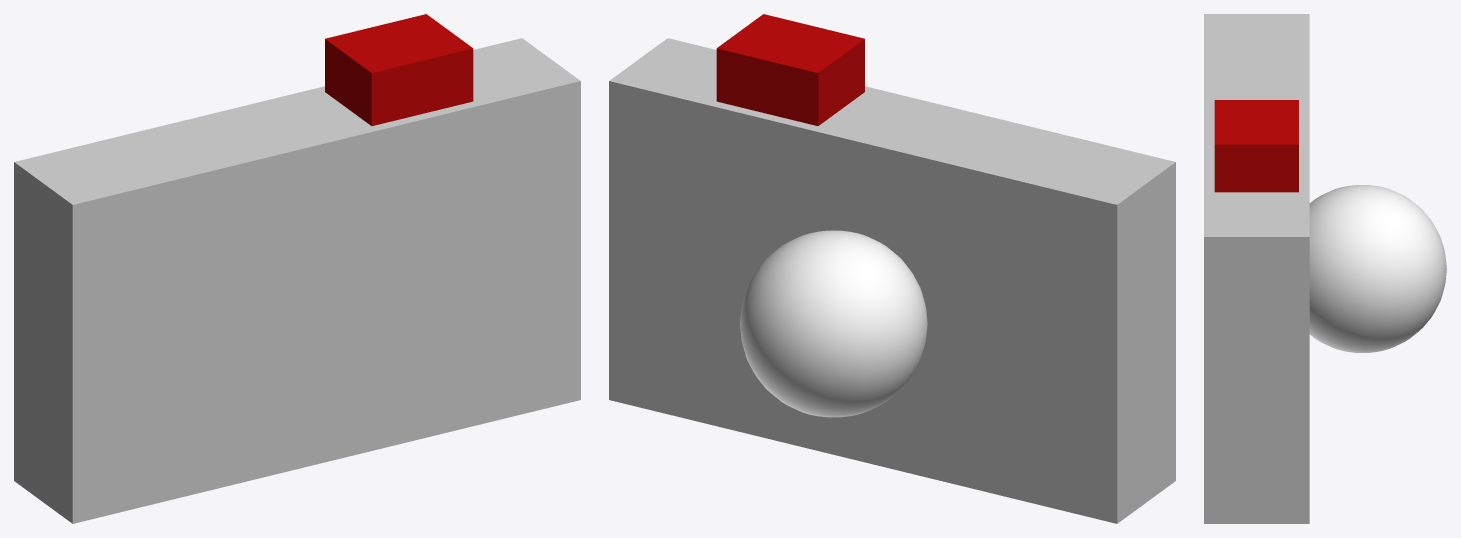
Rendered from camera.glb.
3 renders of one model, left to right at view 1: azimuth 30°, elevation 25°; view 2: azimuth 150°, elevation 25°; view 3: azimuth 270°, elevation 25°, orthographic. The views are drawn at different scales.
Size of the model in its own units: 1 by 0.7 by 0.46.
